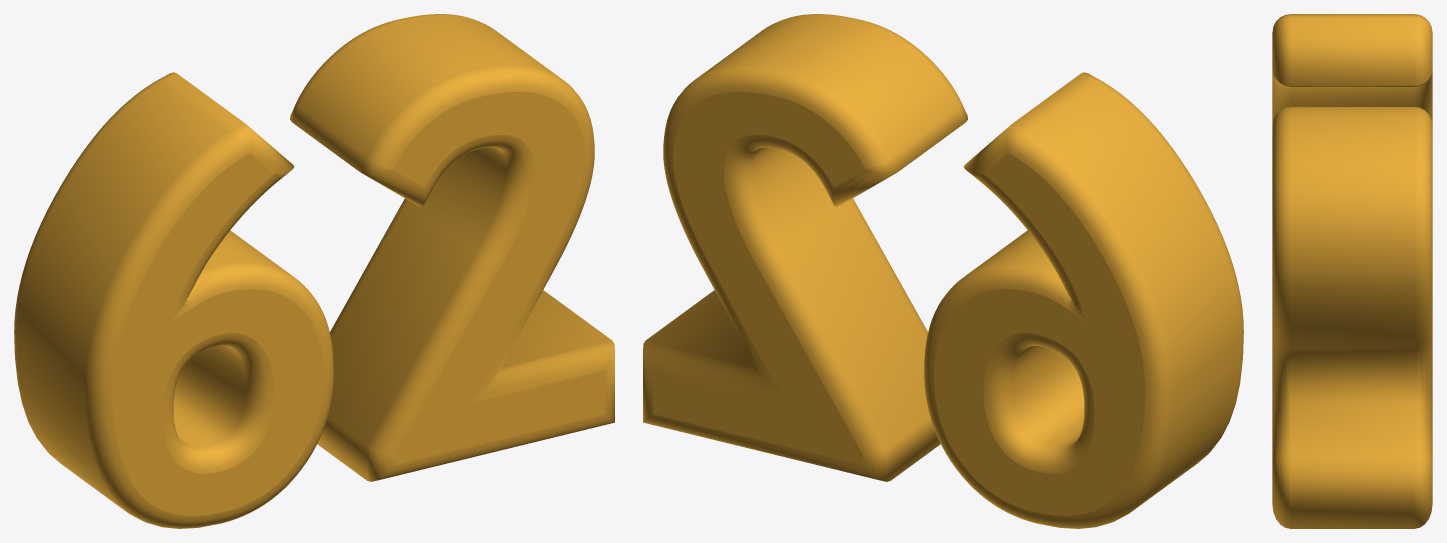
The picture shows the model from 3 angles, left to right: view 1: azimuth 30°, elevation 25°; view 2: azimuth 150°, elevation 25°; view 3: azimuth 270°, elevation 25°; orthographic projection. The views are drawn at different scales.
Parts seen in each view (by area): view 1: Text; view 2: Text; view 3: Text.
Boxes of the visible parts, box(x1,y1,x2,y2) form: Text: box(14, 14, 614, 528); Text: box(643, 14, 1243, 528); Text: box(1272, 14, 1432, 528).
Bounding box in the file's own units: 89.27 × 63.4 × 26.
